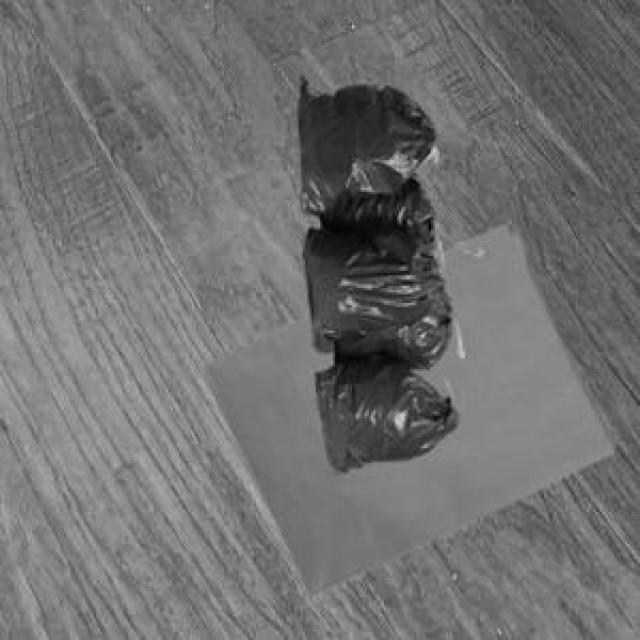miscellaneous trash: (294, 73, 461, 472)
paper: (198, 222, 612, 591)
